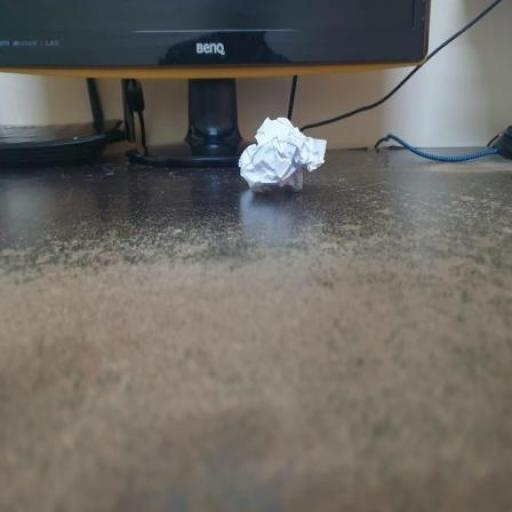paper: (218, 89, 349, 228)
